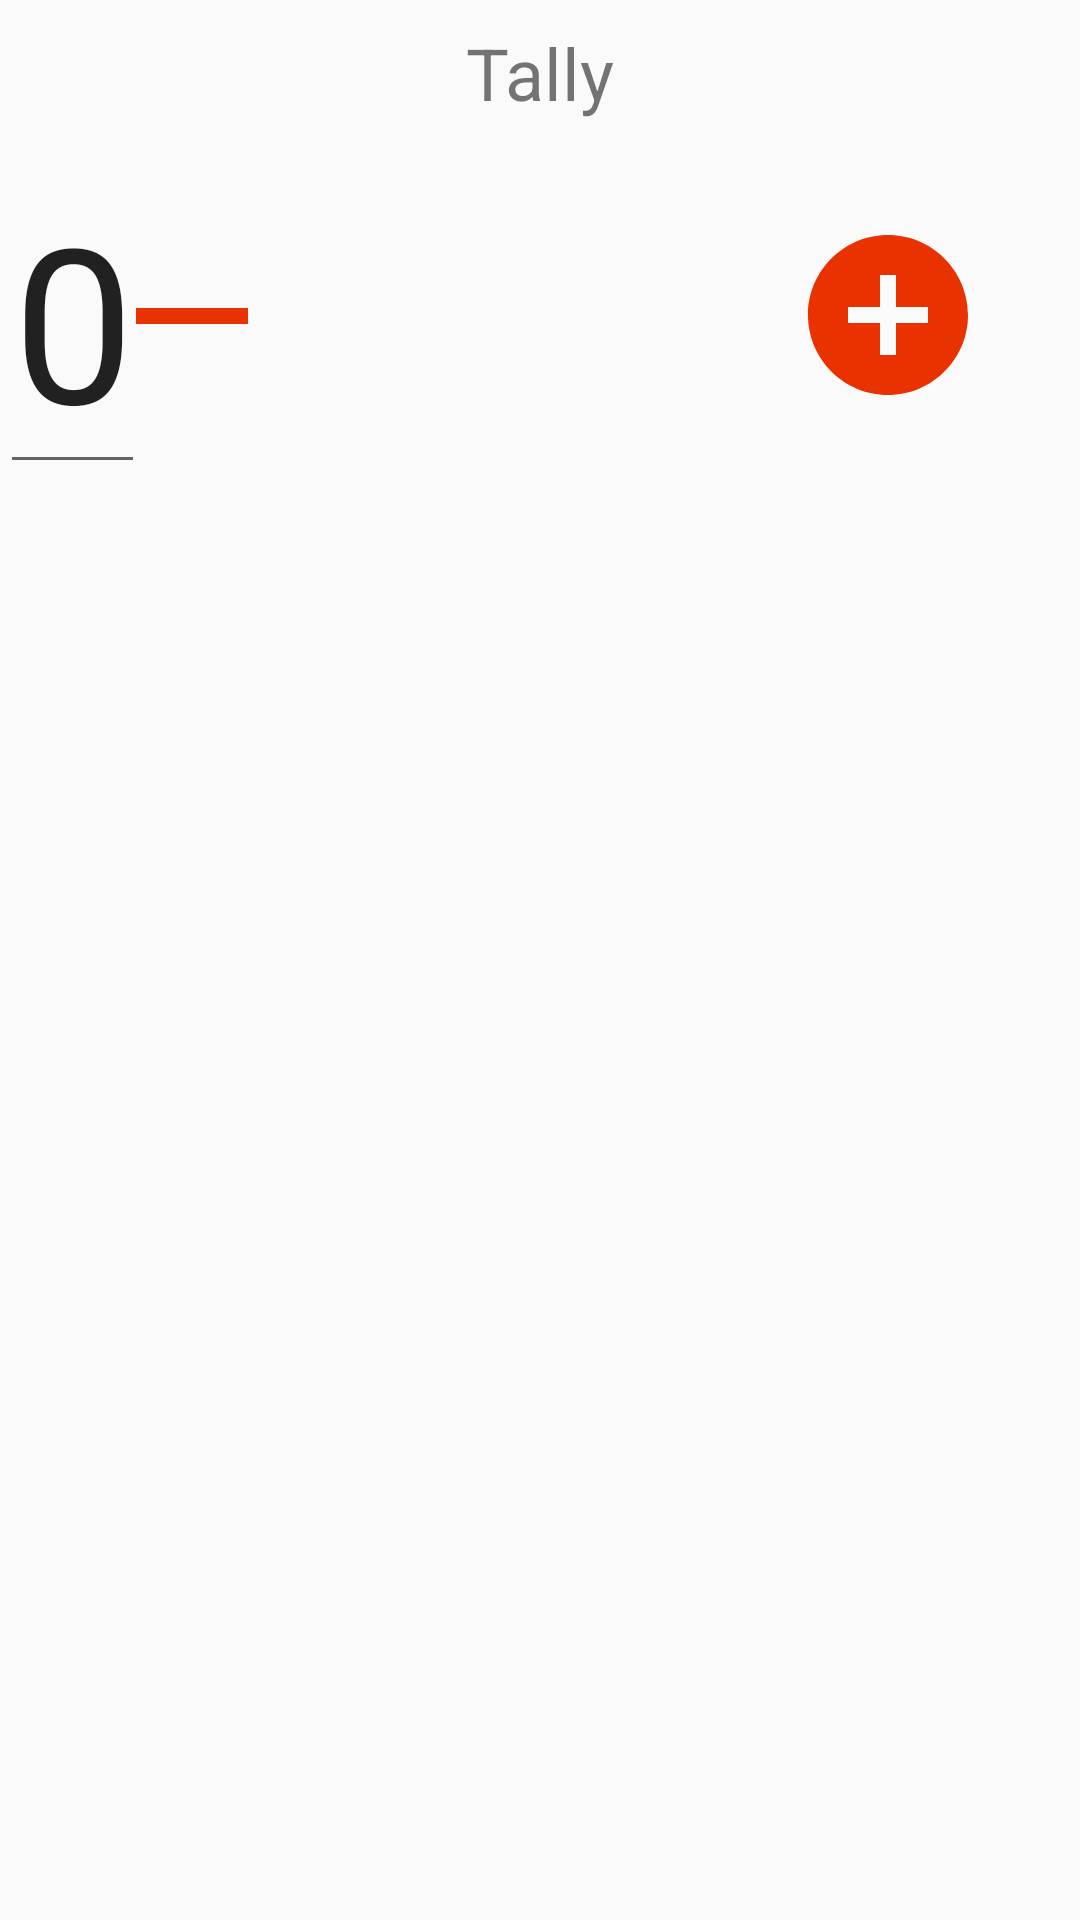

Icon bounding boxes for this 1080w x 1920h phone screenshot, format Rect(x1, y1, x2, y2):
add circle: Rect(807, 235, 968, 395)
remove: Rect(96, 253, 248, 402)
